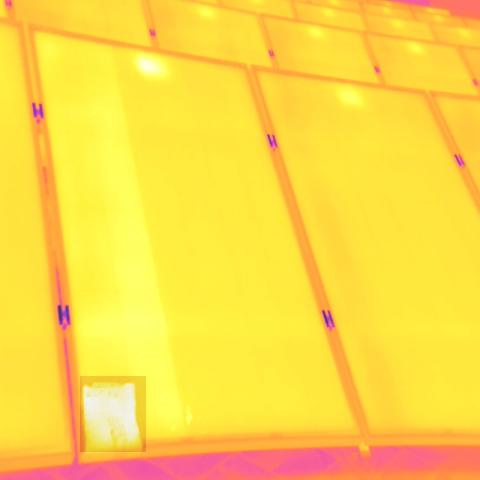fault: (80, 376, 146, 452), (134, 50, 164, 78)
